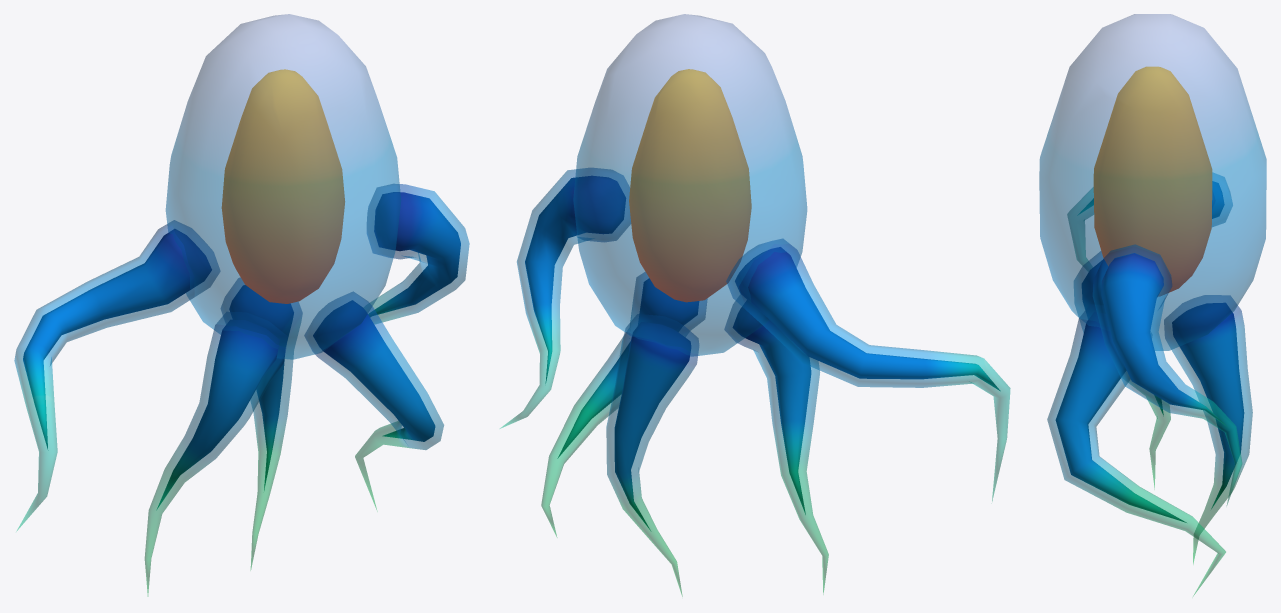
The model's file is capsule_contents_015.glb.
3 views of the same model, side by side, from view 1: azimuth 30°, elevation 25°; view 2: azimuth 150°, elevation 25°; view 3: azimuth 270°, elevation 25° (orthographic).
Visible parts, largest first — view 1: Сapsule_contents_015; view 2: Сapsule_contents_015; view 3: Сapsule_contents_015.
Boxes of the visible parts, x1,y1,x2,y2 form: Сapsule_contents_015: [14, 14, 469, 596]; Сapsule_contents_015: [500, 14, 1010, 596]; Сapsule_contents_015: [1039, 14, 1266, 596].
Bounding box in the file's own units: 1.2 × 1.4 × 0.5209.
Materials: 3 (3 with a texture image).
